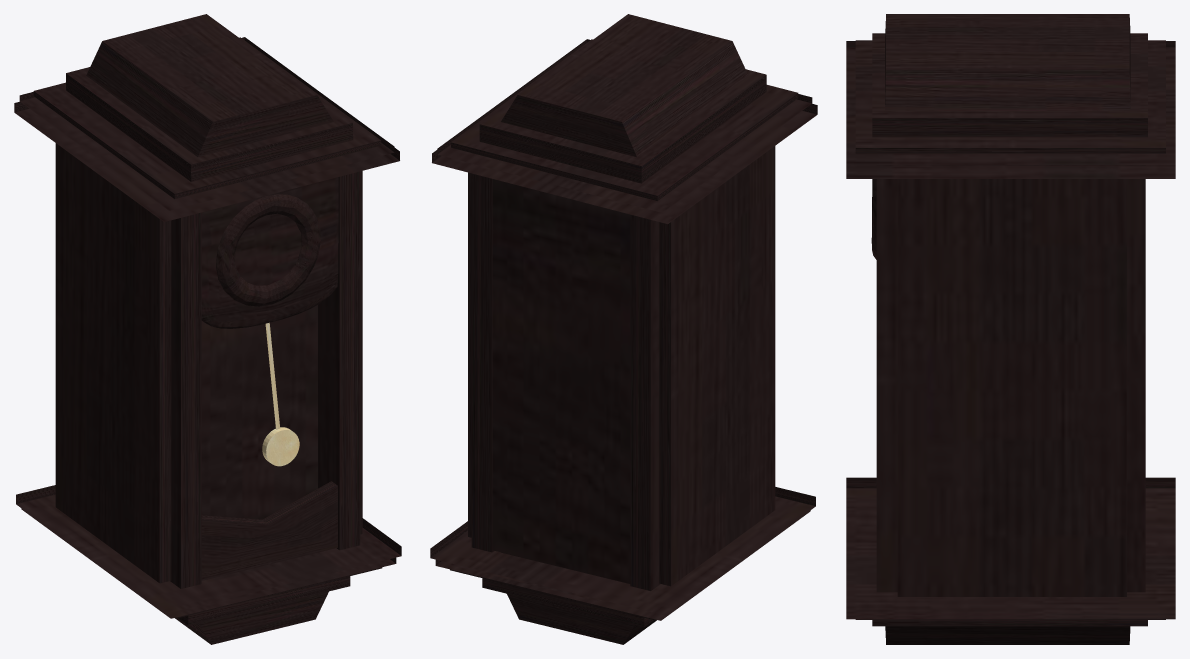
Rendered from old clock.fbx.
3 views of the same model, side by side, from view 1: azimuth 30°, elevation 25°; view 2: azimuth 150°, elevation 25°; view 3: azimuth 270°, elevation 25° (orthographic). The views are drawn at different scales.
Visible parts, largest first — view 1: Clock, Pendulum; view 2: Clock; view 3: Clock.
Part boxes in pixels (<box>): Clock: <box>14,14,401,644</box>; Pendulum: <box>262,322,299,466</box>; Clock: <box>430,14,817,644</box>; Clock: <box>846,14,1175,644</box>.
Size of the model in its own units: 224 by 471 by 244.
